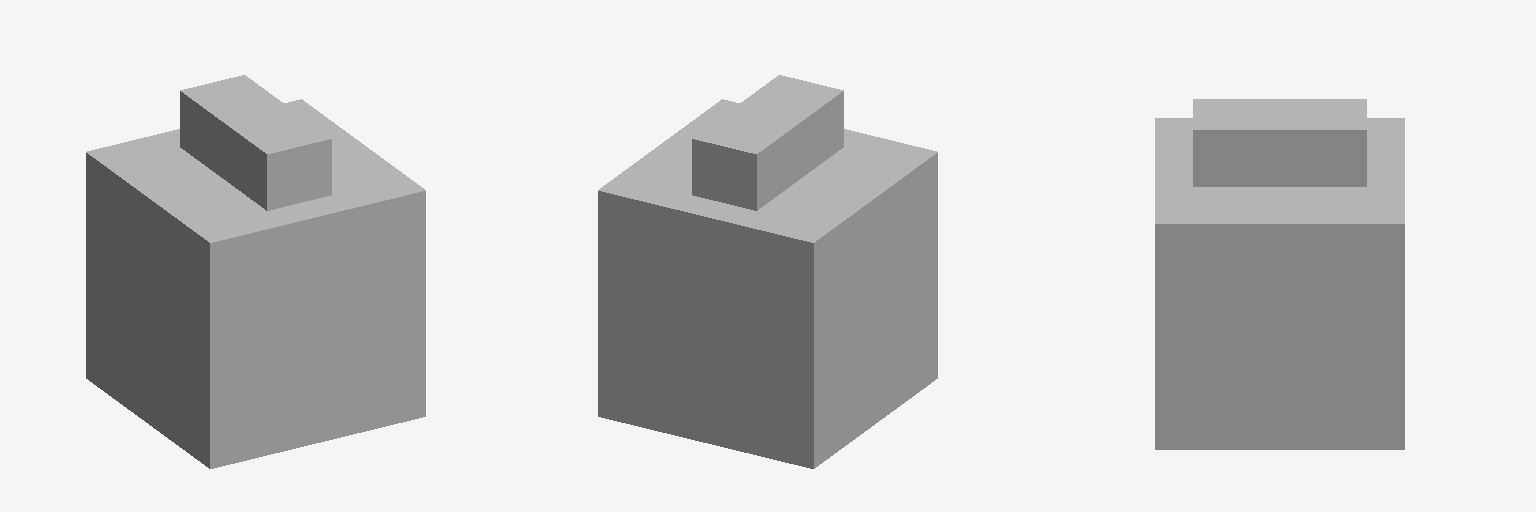
File: Line_cube_cap.obj
3 views of the same model, side by side, from view 1: azimuth 30°, elevation 25°; view 2: azimuth 150°, elevation 25°; view 3: azimuth 270°, elevation 25° (orthographic).
Visible parts, largest first — view 1: Cap_Cube.004; view 2: Cap_Cube.004; view 3: Cap_Cube.004.
Part boxes in pixels (x1,y1,x2,y2): Cap_Cube.004: (86,75,425,468); Cap_Cube.004: (598,75,937,468); Cap_Cube.004: (1155,99,1404,449).
Size of the model in its own units: 0.08 by 0.1 by 0.08.